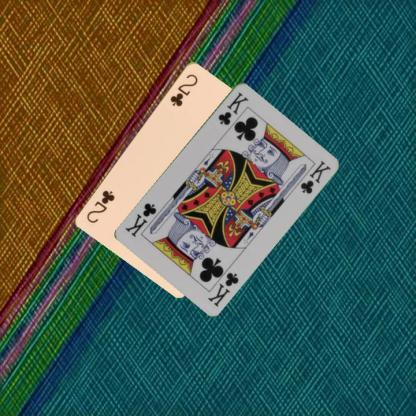2c: (167, 70, 199, 107)
Kc: (204, 269, 240, 307), (215, 89, 250, 126)
